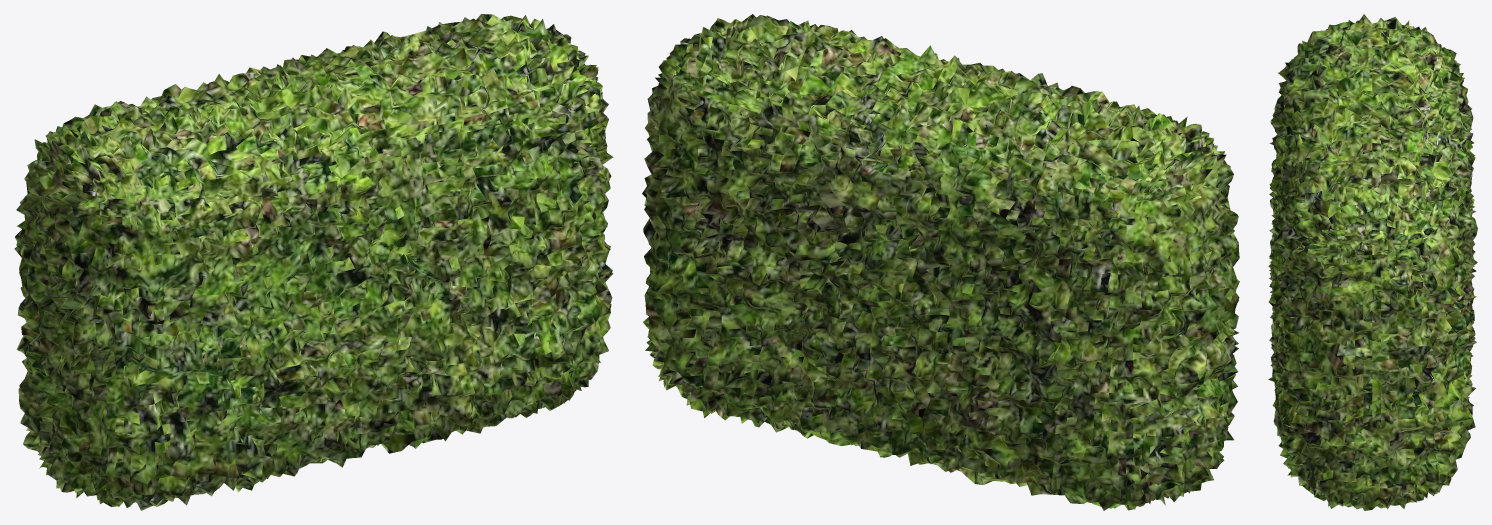
Rendered from HedgeFBX.fbx.
The picture shows the model from 3 angles, left to right: view 1: azimuth 30°, elevation 25°; view 2: azimuth 150°, elevation 25°; view 3: azimuth 270°, elevation 25°; orthographic projection. The views are drawn at different scales.
Visible parts, largest first — view 1: Cube.001; view 2: Cube.001; view 3: Cube.001.
Boxes of the visible parts, x1=… form: Cube.001: x1=14, y1=14, x2=613, y2=510; Cube.001: x1=642, y1=14, x2=1239, y2=510; Cube.001: x1=1268, y1=14, x2=1477, y2=510.
Bounding box in the file's own units: 15471 × 10000 × 5938.
Materials: 1 (1 with a texture image).
